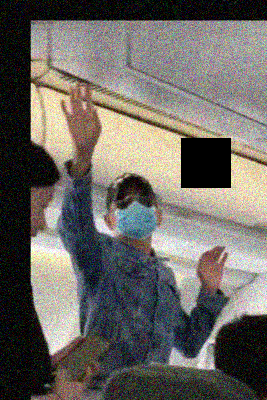with_mask: (111, 188, 157, 241)
without_mask: (31, 189, 54, 248)
